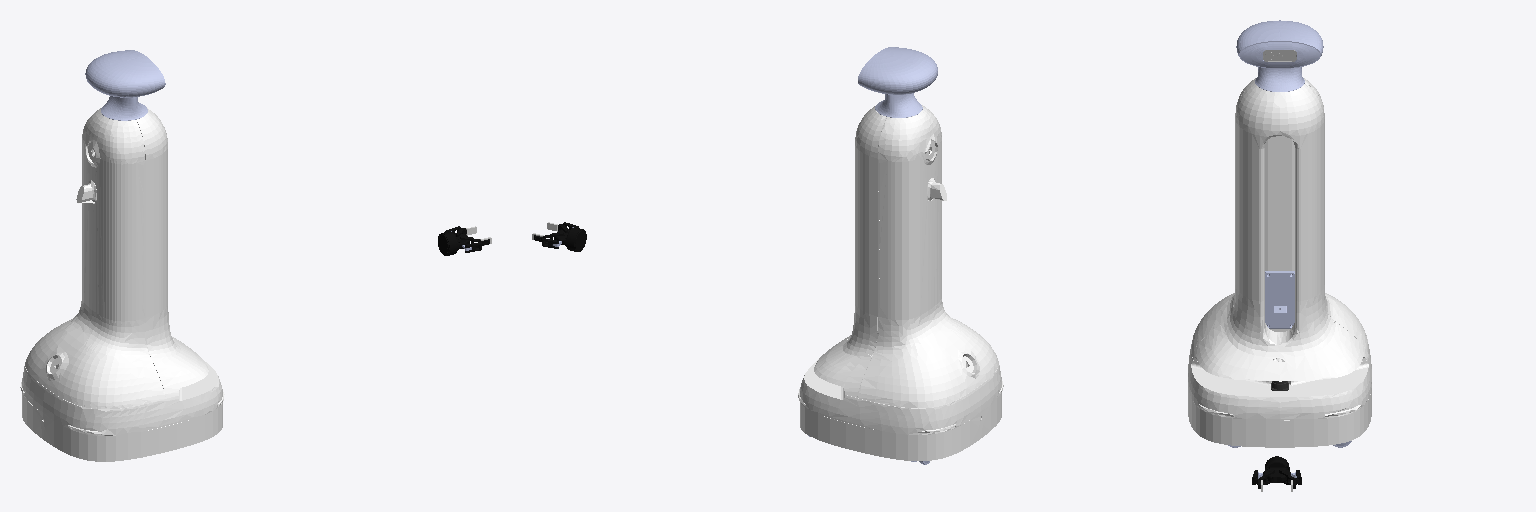
--- Render facts (derived) ---
3 views of the same robot in one strip: view 1: azimuth 30°, elevation 25°; view 2: azimuth 150°, elevation 25°; view 3: azimuth 270°, elevation 25° (orthographic).
Robot: mobile — 42 links, 41 joints (11 revolute, 15 continuous, 1 prismatic, 14 fixed); root link BaseLink; default pose: joints at zero except 3 at the middle of their limits (j2s7s300_joint_2 = 3.14, j2s7s300_joint_4 = 3.14, j2s7s300_joint_6 = 3.14).
Links seen in each view (by area): view 1: BodyShell, HeadShell, NeckShell; view 2: BodyShell, HeadShell, NeckShell; view 3: BodyShell, BaseLink, HeadShell, ArmBase, NeckShell.
Boxes of the visible links, x1,y1,x2,y2 form: BodyShell: [20, 108, 224, 461]; HeadShell: [85, 50, 165, 97]; NeckShell: [101, 96, 147, 120]; BodyShell: [798, 105, 1003, 460]; HeadShell: [858, 47, 937, 94]; NeckShell: [875, 93, 922, 117]; BodyShell: [1188, 78, 1371, 447]; BaseLink: [1265, 136, 1294, 331]; HeadShell: [1236, 20, 1323, 68]; ArmBase: [1265, 271, 1294, 328]; NeckShell: [1255, 67, 1304, 91].
Size in the robot's own frame: 1.61 by 0.5562 by 1.29 metres.
Meshes: 33 distinct files referenced, 25 mesh visuals loaded (21 binary STL); not drawn: 16 (reference not matched to a file when rendering).

robot.urdf — mobile:
<?xml version="1.0" encoding="utf-8"?>
<robot name="mobile">
  <!-- http://wiki.ros.org/simulator_gazebo/Tutorials/ListOfMaterials -->
  <!-- Bigger kp make it more stable -->
  <gazebo reference="BaseLink">
    <kp value="10000000000.0"/>
    <kd value="1.0"/>
    <mu1>0.1</mu1>
    <mu2>0.1</mu2>
    <self_collide>0</self_collide>
  </gazebo>
  <gazebo reference="ArmBase">
    <kp value="10000000000.0"/>
    <kd value="1.0"/>
    <mu1>0.1</mu1>
    <mu2>0.1</mu2>
    <self_collide>0</self_collide>
    <material>Gazebo/Yellow</material>
  </gazebo>
  <gazebo reference="DriWheel_R">
    <kp value="1000000000000.0"/>
    <kd value="1.0"/>
    <mu1>0.8</mu1>
    <mu2>0.8</mu2>
    <material>Gazebo/Blue</material>
  </gazebo>
  <gazebo reference="DriWheel_L">
    <kp value="1000000000000.0"/>
    <kd value="1.0"/>
    <mu1>0.8</mu1>
    <mu2>0.8</mu2>
    <material>Gazebo/Blue</material>
  </gazebo>
  <gazebo reference="UniWheel_LF">
    <mu1>0.8</mu1>
    <mu2>0.8</mu2>
    <material>Gazebo/BlueTransparent</material>
  </gazebo>
  <gazebo reference="UniWheel_RF">
    <mu1>0.8</mu1>
    <mu2>0.8</mu2>
    <material>Gazebo/BlueTransparent</material>
  </gazebo>
  <gazebo reference="UniWheel_LB">
    <mu1>0.8</mu1>
    <mu2>0.8</mu2>
    <material>Gazebo/BlueTransparent</material>
  </gazebo>
  <gazebo reference="UniWheel_RB">
    <mu1>0.8</mu1>
    <mu2>0.8</mu2>
    <material>Gazebo/BlueTransparent</material>
  </gazebo>
  <gazebo reference="HeadShell">
    <kp value="10000000000.0"/>
    <kd value="1.0"/>
    <material>Gazebo/RedBright</material>
  </gazebo>
  <gazebo reference="Radar_2D">
    <kp value="10000000000.0"/>
    <kd value="1.0"/>
    <material>Gazebo/DarkGrey</material>
  </gazebo>
  <gazebo reference="VisualPoint1">
    <material>Gazebo/Red</material>
  </gazebo>
  <gazebo reference="VisualPoint2">
    <material>Gazebo/Red</material>
  </gazebo>
  <gazebo reference="VisualPoint3">
    <material>Gazebo/Red</material>
  </gazebo>
  <gazebo reference="VisualWheel_L">
    <material>Gazebo/Red</material>
  </gazebo>
  <gazebo reference="VisualWheel_R">
    <material>Gazebo/Yellow</material>
  </gazebo>
  <gazebo reference="j2s7s300_link_base">
    <material>Gazebo/Grey</material>
  </gazebo>
  <gazebo reference="j2s7s300_link_1">
    <material>Gazebo/Grey</material>
  </gazebo>
  <gazebo reference="j2s7s300_link_2">
    <material>Gazebo/Grey</material>
  </gazebo>
  <gazebo reference="j2s7s300_link_3">
    <material>Gazebo/Grey</material>
  </gazebo>
  <gazebo reference="j2s7s300_link_4">
    <material>Gazebo/Grey</material>
  </gazebo>
  <gazebo reference="j2s7s300_link_5">
    <material>Gazebo/Grey</material>
  </gazebo>
  <gazebo reference="j2s7s300_link_6">
    <material>Gazebo/Grey</material>
  </gazebo>
  <gazebo reference="robotiq_base_link">
    <material>Gazebo/Grey</material>
    <self_collide>0</self_collide>
  </gazebo>
  <gazebo reference="right_inner_knuckle">
    <self_collide>0</self_collide>
  </gazebo>
  <gazebo reference="right_outer_knuckle">
    <self_collide>0</self_collide>
  </gazebo>
  <gazebo reference="right_outer_finger">
    <self_collide>0</self_collide>
  </gazebo>
  <gazebo reference="right_inner_finger">
  <material>Gazebo/Red</material>
    <self_collide>0</self_collide>
  </gazebo>
  <gazebo reference="left_inner_knuckle">
    <self_collide>0</self_collide>
  </gazebo>
  <gazebo reference="left_outer_knuckle">
    <self_collide>0</self_collide>
  </gazebo>
  <gazebo reference="left_outer_finger">
    <self_collide>0</self_collide>
  </gazebo>
  <gazebo reference="left_inner_finger">
    <self_collide>0</self_collide>
  </gazebo>
  <gazebo reference="right_inner_finger_pad">
    <self_collide>1</self_collide>
  </gazebo>
  <gazebo reference="left_inner_finger_pad">
    <self_collide>1</self_collide>
  </gazebo>
  <gazebo reference="mobile_end_effector">
    <material>Gazebo/GreenTransparent</material>
    <self_collide>0</self_collide>
  </gazebo>
  <!-- Mobile base -->
  <link
    name="BaseLink">
    <inertial>
      <origin
        xyz="-0.0311802154982621 1.17504338130459E-05 0.315211906825966"
        rpy="0 0 0" />
      <mass
        value="8.7968329124645" />
      <inertia
        ixx="0.186258716514256"
        ixy="-1.48518742834124E-05"
        ixz="-0.00154696059136798"
        iyy="0.203780508528874"
        iyz="1.05129920553985E-05"
        izz="0.079091000039605" />
    </inertial>
    <visual>
      <origin
        xyz="0 0 0"
        rpy="0 0 0" />
      <geometry>
        <mesh
          filename="package://mobile_base_urdf/model/base/v4/meshes/BaseLink.STL" />
      </geometry>
      <material
        name="">
        <color
          rgba="1 1 1 1" />
      </material>
    </visual>
    <collision>
      <origin rpy="0 0 0" xyz="0 0 0.025"/>
      <geometry>
        <box size="0.5 0.14 0.15"/>
      </geometry>
    </collision>
  </link>
  <link
    name="Radar_2D">
    <inertial>
      <origin
        xyz="6.20383105998101E-10 0.0216642806157543 -9.5633137657869E-05"
        rpy="0 0 0" />
      <mass
        value="0.111414847916921" />
      <inertia
        ixx="4.42568757050089E-05"
        ixy="5.54707912683361E-13"
        ixz="-1.43915040446869E-12"
        iyy="4.24275016408878E-05"
        iyz="-1.99911186975257E-07"
        izz="4.38954994136943E-05" />
    </inertial>
    <visual>
      <origin
        xyz="0 0 0"
        rpy="0 0 0" />
      <geometry>
        <mesh
          filename="package://mobile_base_urdf/model/base/v4/meshes/Lidar.STL" />
      </geometry>
      <material
        name="">
        <color
          rgba="0.258823529411765 0.258823529411765 0.258823529411765 1" />
      </material>
    </visual>
    <collision>
      <origin
        xyz="0 0 0"
        rpy="0 0 0" />
      <geometry>
        <mesh
          filename="package://mobile_base_urdf/model/base/v4/meshes/Lidar.STL" />
      </geometry>
    </collision>
  </link>
  <joint
    name="JT_Radar_2D"
    type="fixed">
    <origin
      xyz="0.1985 0 0.095"
      rpy="1.5708 0 1.5708" />
    <parent
      link="BaseLink" />
    <child
      link="Radar_2D" />
    <axis
      xyz="0 0 0" />
  </joint>
  <link
    name="UniWheelBase_RF">
    <inertial>
      <origin
        xyz="-0.0289122121608881 7.96029908656237E-14 -0.0182260960322876"
        rpy="0 0 0" />
      <mass
        value="0.0847351495375796" />
      <inertia
        ixx="3.34756139191196E-05"
        ixy="7.50114488966578E-17"
        ixz="-1.16340041790674E-05"
        iyy="6.07135705376021E-05"
        iyz="3.20838303655994E-17"
        izz="3.49474283390519E-05" />
    </inertial>
    <visual>
      <origin
        xyz="0 0 0"
        rpy="0 0 0" />
      <geometry>
        <mesh
          filename="package://mobile_base_urdf/model/base/v4/meshes/UniWheelPivot_RF.STL" />
      </geometry>
      <material
        name="">
        <color
          rgba="1 1 1 1" />
      </material>
    </visual>
  </link>
  <joint
    name="JT_UniWheelBase_RF"
    type="continuous">
    <origin
      xyz="0.185 -0.1585 -0.0043169"
      rpy="1.5708 -1.5708 0" />
    <parent
      link="BaseLink" />
    <child
      link="UniWheelBase_RF" />
    <axis
      xyz="1 0 0" />
    <limit
      lower="-1000000000000"
      upper="1000000000000"
      effort="100"
      velocity="30" />
    <dynamics
      damping="0.01"
      friction="0.001"/>
  </joint>
  <link
    name="UniWheel_RF">
    <inertial>
      <origin
        xyz="2.82717186675385E-08 2.14311952628776E-08 3.03619636168873E-08"
        rpy="0 0 0" />
      <mass
        value="0.131455385692783" />
      <inertia
        ixx="4.67616618745289E-05"
        ixy="-2.20955469793984E-11"
        ixz="-5.77989335033432E-10"
        iyy="8.85134138944847E-05"
        iyz="-2.24056751711574E-11"
        izz="4.67628266240816E-05" />
    </inertial>
    <visual>
      <origin
        xyz="0 0 0"
        rpy="0 0 0" />
      <geometry>
        <mesh
          filename="package://mobile_base_urdf/model/base/v4/meshes/UniWheel_RF.STL" />
      </geometry>
      <material
        name="">
        <color
          rgba="0.792156862745098 0.819607843137255 0.933333333333333 1" />
      </material>
    </visual>
    <collision>
      <origin
        xyz="0 0 0"
        rpy="1.57079632679489661923 0 0" />
      <geometry>
        <cylinder length="0.001" radius="0.0375" />
      </geometry>
    </collision>
  </link>
  <joint
    name="JT_UniWheel_RF"
    type="continuous">
    <origin
      xyz="-0.042183 0 -0.024"
      rpy="0 -1.5708 0" />
    <parent
      link="UniWheelBase_RF" />
    <child
      link="UniWheel_RF" />
    <axis
      xyz="0 1 0" />
    <limit
      lower="-1000000000000"
      upper="1000000000000"
      effort="100"
      velocity="30" />
    <dynamics
      damping="0.01"
      friction="0.001"/>
  </joint>
  <link
    name="UniWheelBase_LF">
    <inertial>
      <origin
        xyz="-0.028912212160888 7.96029908656237E-14 -0.0182260960322876"
        rpy="0 0 0" />
      <mass
        value="0.0847351495375796" />
      <inertia
        ixx="3.34756139191196E-05"
        ixy="7.50107342044398E-17"
        ixz="-1.16340041790674E-05"
        iyy="6.07135705376022E-05"
        iyz="3.20810669265241E-17"
        izz="3.49474283390519E-05" />
    </inertial>
    <visual>
      <origin
        xyz="0 0 0"
        rpy="0 0 0" />
      <geometry>
        <mesh
          filename="package://mobile_base_urdf/model/base/v4/meshes/UniWheelPivot_LF.STL" />
      </geometry>
      <material
        name="">
        <color
          rgba="1 1 1 1" />
      </material>
    </visual>
  </link>
  <joint
    name="JT_UniWheelBase_LF"
    type="continuous">
    <origin
      xyz="0.185 0.1585 -0.00431688785512865"
      rpy="1.5707963267949 -1.5707963267949 0" />
    <parent
      link="BaseLink" />
    <child
      link="UniWheelBase_LF" />
    <axis
      xyz="1 0 0" />
    <limit
      lower="-1000000000000"
      upper="1000000000000"
      effort="100"
      velocity="30" />
    <dynamics
      damping="0.01"
      friction="0.001"/>
  </joint>
  <link
    name="UniWheel_LF">
    <inertial>
      <origin
        xyz="-1.63190614910214E-08 2.14311952073665E-08 3.81421963735473E-08"
        rpy="0 0 0" />
      <mass
        value="0.131455385692783" />
      <inertia
        ixx="4.67630636523249E-05"
        ixy="1.15437256666207E-11"
        ixz="-4.25528389794276E-11"
        iyy="8.85134138944848E-05"
        iyz="-2.92740747055511E-11"
        izz="4.67614248462869E-05" />
    </inertial>
    <visual>
      <origin
        xyz="0 0 0"
        rpy="0 0 0" />
      <geometry>
        <mesh
          filename="package://mobile_base_urdf/model/base/v4/meshes/UniWheel_LF.STL" />
      </geometry>
      <material
        name="">
        <color
          rgba="0.792156862745098 0.819607843137255 0.933333333333333 1" />
      </material>
    </visual>
    <collision>
      <origin
        xyz="0 0 0"
        rpy="1.57079632679489661923 0 0" />
      <geometry>
        <cylinder length="0.001" radius="0.0375" />
      </geometry>
    </collision>
  </link>
  <joint
    name="JT_UniWheel_LF"
    type="continuous">
    <origin
      xyz="-0.042183 0 -0.024"
      rpy="0 -1.5708 0" />
    <parent
      link="UniWheelBase_LF" />
    <child
      link="UniWheel_LF" />
    <axis
      xyz="0 1 0" />
    <limit
      lower="-1000000000000"
      upper="1000000000000"
      effort="100"
      velocity="30" />
    <dynamics
      damping="0.01"
      friction="0.001"/>
  </joint>
  <link
    name="UniWheelBase_RB">
    <inertial>
      <origin
        xyz="-0.0289122121598695 7.96029908656237E-14 -0.0182260960322876"
        rpy="0 0 0" />
      <mass
        value="0.0847351495375796" />
      <inertia
        ixx="3.34756139191196E-05"
        ixy="7.50002400117997E-17"
        ixz="-1.16340041790674E-05"
        iyy="6.07135705376021E-05"
        iyz="3.2068961265564E-17"
        izz="3.49474283390519E-05" />
    </inertial>
    <visual>
      <origin
        xyz="0 0 0"
        rpy="0 0 0" />
      <geometry>
        <mesh
          filename="package://mobile_base_urdf/model/base/v4/meshes/UniWheelPivot_RB.STL" />
      </geometry>
      <material
        name="">
        <color
          rgba="1 1 1 1" />
      </material>
    </visual>
  </link>
  <joint
    name="JT_UniWheelBase_RB"
    type="continuous">
    <origin
      xyz="-0.185 -0.1585 -0.00431688785512863"
      rpy="1.5707963267949 -1.5707963267949 0" />
    <parent
      link="BaseLink" />
    <child
      link="UniWheelBase_RB" />
    <axis
      xyz="1 0 0" />
    <limit
      lower="-1000000000000"
      upper="1000000000000"
      effort="100"
      velocity="30" />
    <dynamics
      damping="0.01"
      friction="0.001"/>
  </joint>
  <link
    name="UniWheel_RB">
    <inertial>
      <origin
        xyz="-1.63190614563269E-08 2.14311951796109E-08 3.81421963388529E-08"
        rpy="0 0 0" />
      <mass
        value="0.131455385692783" />
      <inertia
        ixx="4.67630636523245E-05"
        ixy="1.15437256434612E-11"
        ixz="-4.25528389606465E-11"
        iyy="8.85134138944848E-05"
        iyz="-2.92740747818311E-11"
        izz="4.67614248462865E-05" />
    </inertial>
    <visual>
      <origin
        xyz="0 0 0"
        rpy="0 0 0" />
      <geometry>
        <mesh
          filename="package://mobile_base_urdf/model/base/v4/meshes/UniWheel_RB.STL" />
      </geometry>
      <material
        name="">
        <color
          rgba="0.792156862745098 0.819607843137255 0.933333333333333 1" />
      </material>
    </visual>
    <collision>
      <origin
        xyz="0 0 0"
        rpy="1.57079632679489661923 0 0" />
      <geometry>
        <cylinder length="0.001" radius="0.0375" />
      </geometry>
    </collision>
  </link>
  <joint
    name="JT_UniWheel_RB"
    type="continuous">
    <origin
      xyz="-0.042183 0 -0.024"
      rpy="0 -1.5708 0" />
    <parent
      link="UniWheelBase_RB" />
    <child
      link="UniWheel_RB" />
    <axis
      xyz="0 1 0" />
    <limit
      lower="-1000000000000"
      upper="1000000000000"
      effort="100"
      velocity="30" />
    <dynamics
      damping="0.01"
      friction="0.001"/>
  </joint>
  <link
    name="UniWheelBase_LB">
    <inertial>
      <origin
        xyz="-0.0289122121598694 7.95752352900081E-14 -0.0182260960322876"
        rpy="0 0 0" />
      <mass
        value="0.0847351495375797" />
      <inertia
        ixx="3.34756139191196E-05"
        ixy="7.50052988252789E-17"
        ixz="-1.16340041790674E-05"
        iyy="6.07135705376022E-05"
        iyz="3.20738964835275E-17"
        izz="3.49474283390519E-05" />
    </inertial>
    <visual>
      <origin
        xyz="0 0 0"
        rpy="0 0 0" />
      <geometry>
        <mesh
          filename="package://mobile_base_urdf/model/base/v4/meshes/UniWheelPivot_LB.STL" />
      </geometry>
      <material
        name="">
        <color
          rgba="1 1 1 1" />
      </material>
    </visual>
  </link>
  <joint
    name="JT_UniWheelBase_LB"
    type="continuous">
    <origin
      xyz="-0.185 0.1585 -0.0043169"
      rpy="1.5708 -1.5708 0" />
    <parent
      link="BaseLink" />
    <child
      link="UniWheelBase_LB" />
    <axis
      xyz="1 0 0" />
    <limit
      lower="-1000000000000"
      upper="1000000000000"
      effort="100"
      velocity="30" />
    <dynamics
      damping="0.01"
      friction="0.001"/>
  </joint>
  <link
    name="UniWheel_LB">
    <inertial>
      <origin
        xyz="-1.63190614910214E-08 2.14311952073665E-08 3.81421963596695E-08"
        rpy="0 0 0" />
      <mass
        value="0.131455385692783" />
      <inertia
        ixx="4.67630636523245E-05"
        ixy="1.15437256326157E-11"
        ixz="-4.25528389682312E-11"
        iyy="8.85134138944848E-05"
        iyz="-2.92740746535266E-11"
        izz="4.67614248462866E-05" />
    </inertial>
    <visual>
      <origin
        xyz="0 0 0"
        rpy="0 0 0" />
      <geometry>
        <mesh
          filename="package://mobile_base_urdf/model/base/v4/meshes/UniWheel_LB.STL" />
      </geometry>
      <material
        name="">
        <color
          rgba="0.792156862745098 0.819607843137255 0.933333333333333 1" />
      </material>
    </visual>
    <collision>
      <origin
        xyz="0 0 0"
        rpy="1.57079632679489661923 0 0" />
      <geometry>
        <cylinder length="0.001" radius="0.0375" />
      </geometry>
    </collision>
  </link>
  <joint
    name="JT_UniWheel_LB"
    type="continuous">
    <origin
      xyz="-0.0421831121443616 0 -0.024"
      rpy="0 -1.5707963267949 0" />
    <parent
      link="UniWheelBase_LB" />
    <child
      link="UniWheel_LB" />
    <axis
      xyz="0 1 0" />
    <limit
      lower="-1000000000000"
      upper="1000000000000"
      effort="100"
      velocity="30" />
    <dynamics
      damping="0.01"
      friction="0.001"/>
  </joint>
  <link
    name="DriWheel_L">
    <inertial>
      <origin
        xyz="7.00910488723022E-19 2.29657315570231E-06 8.67361737988404E-19"
        rpy="0 0 0" />
      <mass
        value="0.991630823915776" />
      <inertia
        ixx="0.00184507083744811"
        ixy="-3.379158989595E-21"
        ixz="3.3889717648391E-36"
        iyy="0.00334198159600445"
        iyz="5.46421202140047E-36"
        izz="0.00184507083744811" />
    </inertial>
    <visual>
      <origin
        xyz="0 0 0"
        rpy="0 0 0" />
      <geometry>
        <mesh
          filename="package://mobile_base_urdf/model/base/v4/meshes/DriWheel_L.STL" />
      </geometry>
      <material
        name="">
        <color
          rgba="1 1 1 1" />
      </material>
    </visual>
    <collision>
      <origin rpy="1.57079632679489661923 0 0" xyz="0 0 0"/>
      <geometry>
        <cylinder length="0.001" radius="0.0843"/>
      </geometry>
    </collision>
  </link>
  <joint
    name="JT_DriWheel_L"
    type="continuous">
    <origin
      xyz="0 0.19697 0"
      rpy="0 0 0" />
    <parent
      link="BaseLink" />
    <child
      link="DriWheel_L" />
    <axis
      xyz="0 1 0" />
    <limit
      lower="-1000000000000"
      upper="1000000000000"
      effort="1000"
      velocity="30" />
    <dynamics
      damping="0.01"
      friction="0.001"/>
  </joint>
  <link
    name="DriWheel_R">
    <inertial>
      <origin
        xyz="3.80487199906632E-18 -2.29657315570231E-06 0"
        rpy="0 0 0" />
      <mass
        value="0.991630823915776" />
      <inertia
        ixx="0.00184507083744811"
        ixy="4.54703773356873E-19"
        ixz="1.69406589450849E-21"
        iyy="0.00334198159600445"
        iyz="-8.74951063712164E-22"
        izz="0.00184507083744811" />
    </inertial>
    <visual>
      <origin
        xyz="0 0 0"
        rpy="0 0 0" />
      <geometry>
        <mesh
          filename="package://mobile_base_urdf/model/base/v4/meshes/DriWheel_R.STL" />
      </geometry>
      <material
        name="">
        <color
          rgba="1 1 1 1" />
      </material>
    </visual>
    <collision>
      <origin rpy="1.57079632679489661923 0 0" xyz="0 0 0"/>
      <geometry>
        <cylinder length="0.001" radius="0.0843"/>
      </geometry>
    </collision>
  </link>
  <joint
    name="JT_DriWheel_R"
    type="continuous">
    <origin
      xyz="0 -0.19697 0"
      rpy="0 0.004633 0" />
    <parent
      link="BaseLink" />
    <child
      link="DriWheel_R" />
    <axis
      xyz="0 1 0" />
    <limit
      lower="-1000000000000"
      upper="1000000000000"
      effort="1000"
      velocity="30" />
    <dynamics
      damping="0.01"
      friction="0.001"/>
  </joint>
  <link
    name="ArmBase">
    <inertial>
      <origin
        xyz="-0.0306974842711243 -0.000955398394232504 0.0354516942274083"
        rpy="0 0 0" />
      <mass
        value="0.833236204792763" />
      <inertia
        ixx="0.00262276376774655"
        ixy="-6.9599475549375E-07"
        ixz="5.15168201230645E-05"
        iyy="0.00186363387009509"
        iyz="8.78496595339785E-07"
        izz="0.00105932573712803" />
    </inertial>
    <visual>
      <origin
        xyz="0 0 0"
        rpy="0 0 0" />
      <geometry>
        <mesh
          filename="package://mobile_base_urdf/model/base/v4/meshes/ArmBase.STL" />
      </geometry>
      <material
        name="">
        <color
          rgba="0.796078431372549 0.823529411764706 0.937254901960784 1" />
      </material>
    </visual>
    <collision>
      <origin
        xyz="0 0 0"
        rpy="0 0 0" />
      <geometry>
        <mesh
          filename="package://mobile_base_urdf/model/base/v4/meshes/ArmBase.STL" />
      </geometry>
    </collision>
  </link>
  <joint
    name="JT_ArmBase"
    type="prismatic">
    <origin
      xyz="0.063 0.001 0.2955"
      rpy="0 0 0" />
    <parent
      link="BaseLink" />
    <child
      link="ArmBase" />
    <axis
      xyz="0 0 1" />
    <limit
      lower="0"
      upper="0.585"
      effort="1000"
      velocity="0.06" />
  </joint>
  <link
    name="Pantilt_PanLink">
    <inertial>
      <origin
        xyz="0.000554299127061951 -3.49485223612167E-06 0.0547778067465923"
        rpy="0 0 0" />
      <mass
        value="0.226677336025464" />
      <inertia
        ixx="0.000142637008072705"
        ixy="2.77462848098286E-10"
        ixz="4.76129503110727E-17"
        iyy="7.22794203939845E-05"
        iyz="-2.37581213250001E-16"
        izz="0.000154987832286111" />
    </inertial>
    <visual>
      <origin
        xyz="0 0 0"
        rpy="0 0 0" />
      <geometry>
        <mesh
          filename="package://mobile_base_urdf/model/base/v4/meshes/PanSet.STL" />
      </geometry>
      <material
        name="">
        <color
          rgba="0.752941176470588 0.752941176470588 0.752941176470588 1" />
      </material>
    </visual>
    <collision>
      <origin
        xyz="0 0 0"
        rpy="0 0 0" />
      <geometry>
        <mesh
          filename="package://mobile_base_urdf/model/base/v4/meshes/PanSet.STL" />
      </geometry>
    </collision>
  </link>
  <joint
    name="JT_Pantilt_PanLink"
    type="continuous">
    <origin
      xyz="0 0 1.0091"
      rpy="0 0 0" />
    <parent
      link="BaseLink" />
    <child
      link="Pantilt_PanLink" />
    <axis
      xyz="0 0 1" />
    <limit
      effort="20"
      lower="-100000"
      upper="100000"
      velocity="30"/>
    <dynamics
      damping="0.2"
      friction="0.0"/>
  </joint>
  <link
    name="Pantilt_TiltLink">
    <inertial>
      <origin
        xyz="0.00627852264147075 -1.3351967463604E-05 0.0451641775455638"
        rpy="0 0 0" />
      <mass
        value="0.337334688556195" />
      <inertia
        ixx="0.00094709872727437"
        ixy="2.97365722461131E-07"
        ixz="-4.12017268066108E-06"
        iyy="0.000509489116148601"
        iyz="-2.57100827181398E-08"
        izz="0.00142454025924575" />
    </inertial>
    <visual>
      <origin
        xyz="0 0 0"
        rpy="0 0 0" />
      <geometry>
        <mesh
          filename="package://mobile_base_urdf/model/base/v4/meshes/TiltSet.STL" />
      </geometry>
      <material
        name="">
        <color
          rgba="0.752941176470588 0.752941176470588 0.752941176470588 1" />
      </material>
    </visual>
    <collision>
      <origin
        xyz="0 0 0"
        rpy="0 0 0" />
      <geometry>
        <mesh
          filename="package://mobile_base_urdf/model/base/v4/meshes/TiltSet.STL" />
      </geometry>
    </collision>
  </link>
  <joint
    name="JT_Pantilt_TiltLink"
    type="continuous">
    <origin
      xyz="0 0 0.10056"
      rpy="0 0.019568 0" />
    <parent
      link="Pantilt_PanLink" />
    <child
      link="Pantilt_TiltLink" />
    <axis
      xyz="0 1 0" />
    <limit
      effort="20"
      lower="-100000"
      upper="100000"
      velocity="30"/>
    <dynamics
      damping="0.2"
      friction="0.0"/>
  </joint>
  <!-- Shell -->
  <link
    name="BodyShell">
    <inertial>
      <origin
        xyz="-0.00438421880768753 8.31574203594421E-05 0.375180994226469"
        rpy="0 0 0" />
      <mass
        value="6.96027412074526" />
      <inertia
        ixx="0.54240738104732"
        ixy="-3.13858711109322E-05"
        ixz="-0.0126584262855019"
        iyy="0.492210055619746"
        iyz="4.12720577585476E-05"
        izz="0.251787815510178" />
    </inertial>
    <visual>
      <origin
        xyz="0 0 0"
        rpy="0 0 0" />
      <geometry>
        <mesh
          filename="package://mobile_base_urdf/model/base/v4/meshes/BodyShell.STL" />
      </geometry>
      <material
        name="">
        <color
          rgba="1 1 1 1" />
      </material>
    </visual>
    <collision>
      <origin
        xyz="0 0 0"
        rpy="0 0 0" />
      <geometry>
        <mesh
          filename="package://mobile_base_urdf/model/base/v4/meshes/BodyShell.STL" />
      </geometry>
    </collision>
  </link>
  <joint
    name="JT_BodyShell"
    type="fixed">
    <origin
      xyz="0 0 0"
      rpy="0 0 0" />
    <parent
      link="BaseLink" />
    <child
      link="BodyShell" />
    <axis
      xyz="0 0 0" />
  </joint>
  <link
    name="HeadShell">
    <inertial>
      <origin
        xyz="-0.00389933532083145 0.0427764441730733 0.87165278052167"
        rpy="0 0 0" />
      <mass
        value="0.354445891112852" />
      <inertia
        ixx="0.00118414996131452"
        ixy="-0.000144474967856168"
        ixz="-1.2439502307308E-06"
        iyy="0.00211641739988207"
        iyz="8.93972375142148E-06"
        izz="0.00314939565459275" />
    </inertial>
    <visual>
      <origin
        xyz="0 0 0"
        rpy="0 0 0" />
      <geometry>
        <mesh
          filename="package://mobile_base_urdf/model/base/v4/meshes/HeadShell.STL" />
      </geometry>
      <material
        name="">
        <color
          rgba="0.792156862745098 0.819607843137255 0.933333333333333 1" />
      </material>
    </visual>
    <collision>
      <origin
        xyz="0 0 0"
        rpy="0 0 0" />
      <geometry>
        <mesh
          filename="package://mobile_base_urdf/model/base/v4/meshes/HeadShell.STL" />
      </geometry>
    </collision>
  </link>
  <joint
    name="JT_HeadShell"
    type="fixed">
    <origin
      xyz="0.049958 -0.0025918 -0.81864"
      rpy="-0.019346 -0.0029375 1.4201" />
    <parent
      link="Pantilt_TiltLink" />
    <child
      link="HeadShell" />
    <axis
      xyz="0 0 0" />
  </joint>
  <link
    name="NeckShell">
    <inertial>
      <origin
        xyz="-0.00241306537212758 0.033137204350725 0.788402712710511"
        rpy="0 0 0" />
      <mass
        value="0.137012264555895" />
      <inertia
        ixx="0.000183280169998726"
        ixy="-2.80282933564336E-05"
        ixz="-3.68462241307317E-07"
        iyy="0.000363621283724574"
        iyz="2.46058968589238E-06"
        izz="0.000261586764660329" />
    </inertial>
    <visual>
      <origin
        xyz="0 0 0"
        rpy="0 0 0" />
      <geometry>
        <mesh
          filename="package://mobile_base_urdf/model/base/v4/meshes/NeckShell.STL" />
      </geometry>
      <material
        name="">
        <color
          rgba="0.792156862745098 0.819607843137255 0.933333333333333 1" />
      </material>
    </visual>
    <collision>
      <origin
        xyz="0 0 0"
        rpy="0 0 0" />
      <geometry>
        <mesh
          filename="package://mobile_base_urdf/model/base/v4/meshes/NeckShell.STL" />
      </geometry>
    </collision>
  </link>
  <joint
    name="JT_NeckShell"
    type="fixed">
    <origin
      xyz="-0.033931 0.0025889 -0.72354"
      rpy="0 0 -1.7215" />
    <parent
      link="Pantilt_PanLink" />
    <child
      link="NeckShell" />
    <axis
      xyz="0 0 0" />
  </joint>
  <!-- Base visualization -->
  <link name="VisualWheel_L">
    <visual>
      <origin xyz="0 0.024 0" rpy="0 0 0" />
      <geometry>
        <box size="0.01 0.001 0.15"/>
      </geometry>
    </visual>
  </link>
  <joint name="JT_VisualWheel_L"
    type="fixed">
    <origin
      xyz="0 0 0"
      rpy="0 0 0" />
    <parent
      link="DriWheel_L" />
    <child
      link="VisualWheel_L" />
  </joint>
  <link name="VisualWheel_R">
    <visual>
      <origin xyz="0 -0.024 0" rpy="0 0 0" />
      <geometry>
        <box size="0.01 0.001 0.15"/>
      </geometry>
    </visual>
  </link>
  <joint name="JT_VisualWheel_R"
    type="fixed">
    <origin
      xyz="0 0 0"
      rpy="0 0 0" />
    <parent
      link="DriWheel_R" />
    <child
      link="VisualWheel_R" />
  </joint>
  <link name="VisualPoint1">
    <visual>
      <origin xyz="0 0 0" rpy="0 0 0" />
      <geometry>
        <sphere radius="0.01"/>
      </geometry>
    </visual>
  </link>
  <joint name="JT_VisualPoint1"
    type="fixed">
    <origin
      xyz="0.02 0 0.55"
      rpy="0 0 0" />
    <parent
      link="BaseLink" />
    <child
      link="VisualPoint1" />
  </joint>
  <link name="VisualPoint2">
    <visual>
      <origin xyz="0 0 0" rpy="0 0 0" />
      <geometry>
        <sphere radius="0.01"/>
      </geometry>
    </visual>
  </link>
  <joint name="JT_VisualPoint2"
    type="fixed">
    <origin
      xyz="0.02 0 0.7"
      rpy="0 0 0" />
    <parent
      link="BaseLink" />
    <child
      link="VisualPoint2" />
  </joint>
  <link name="VisualPoint3">
    <visual>
      <origin xyz="0 0 0" rpy="0 0 0" />
      <geometry>
        <sphere radius="0.01"/>
      </geometry>
    </visual>
  </link>
  <joint name="JT_VisualPoint3"
    type="fixed">
    <origin
      xyz="0.02 0 0.85"
      rpy="0 0 0" />
    <parent
      link="BaseLink" />
    <child
      link="VisualPoint3" />
  </joint>
  <!-- Kinova arm -->
  <link name="j2s7s300_link_base">
    <visual>
      <geometry>
        <mesh filename="package://mobile_base_urdf/model/arm/kinova/meshes/base.dae"/>
      </geometry>
      <material name="carbon_fiber">
        <color rgba="0.792156862745098 0.819607843137255 0.933333333333333 1"/>
      </material>
    </visual>
    <inertial>
      <mass value="0.46784"/>
      <origin rpy="0 0 0" xyz="0 0 0.1255"/>
      <inertia ixx="0.000951270861568" ixy="0" ixz="0" iyy="0.000951270861568" iyz="0" izz="0.000374272"/>
    </inertial>
  </link>
  <joint name="j2s7s300_joint_base" type="fixed">
    <parent link="ArmBase"/>
    <child link="j2s7s300_link_base"/>
    <axis xyz="0 0 0"/>
    <limit effort="50" lower="0" upper="0" velocity="30"/>
    <origin rpy="0 1.57079632679489661923 0" xyz="0 0 0"/>
    <dynamics damping=".2" friction=".0"/>
  </joint>
  <link name="j2s7s300_link_1">
    <visual>
      <geometry>
        <mesh filename="package://mobile_base_urdf/model/arm/kinova/meshes/shoulder.dae"/>
      </geometry>
      <material name="carbon_fiber">
        <color rgba="0.792156862745098 0.819607843137255 0.933333333333333 1"/>
      </material>
    </visual>
    <visual>
      <geometry>
        <mesh filename="package://mobile_base_urdf/model/arm/kinova/meshes/ring_big.STL"/>
      </geometry>
    </visual>
    <inertial>
      <mass value="0.7477"/>
      <origin xyz="0 -0.002 -0.0605"/>
      <inertia ixx="0.00152031725204" ixy="0" ixz="0" iyy="0.00152031725204" iyz="0" izz="0.00059816"/>
    </inertial>
  </link>
  <joint name="j2s7s300_joint_1" type="continuous">
    <parent link="j2s7s300_link_base"/>
    <child link="j2s7s300_link_1"/>
    <axis xyz="0 0 1"/>
    <limit effort="50" lower="-6.28318530718" upper="6.28318530718" velocity="30"/>
    <origin rpy="0 3.14159265358979323846 0" xyz="0 0 0.15675"/>
    <dynamics damping=".2" friction=".0"/>
  </joint>
  <transmission name="j2s7s300_joint_1_trans">
    <type>transmission_interface/SimpleTransmission</type>
    <joint name="j2s7s300_joint_1">
      <hardwareInterface>hardware_interface/EffortJointInterface</hardwareInterface>
    </joint>
    <actuator name="j2s7s300_joint_1_actuator">
      <hardwareInterface>hardware_interface/EffortJointInterface</hardwareInterface>
      <mechanicalReduction>160</mechanicalReduction>
    </actuator>
  </transmission>
  <link name="j2s7s300_link_2">
    <visual>
      <geometry>
        <mesh filename="package://mobile_base_urdf/model/arm/kinova/meshes/arm_half_1.dae"/>
      </geometry>
      <material name="carbon_fiber">
        <color rgba="0.792156862745098 0.819607843137255 0.933333333333333 1"/>
      </material>
    </visual>
    <visual>
      <geometry>
        <mesh filename="package://mobile_base_urdf/model/arm/kinova/meshes/ring_big.STL"/>
      </geometry>
    </visual>
    <collision>
      <geometry>
        <mesh filename="package://mobile_base_urdf/model/arm/kinova/meshes/arm_half_1.dae"/>
      </geometry>
    </collision>
    <inertial>
      <mass value="0.8447"/>
      <origin xyz="0 -0.103563213 0"/>
      <inertia ixx="0.00247073761701" ixy="0" ixz="0" iyy="0.000380115" iyz="0" izz="0.00247073761701"/>
    </inertial>
  </link>
  <joint name="j2s7s300_joint_2" type="revolute">
    <parent link="j2s7s300_link_1"/>
    <child link="j2s7s300_link_2"/>
    <axis xyz="0 0 1"/>
    <limit effort="50" lower="0.820304748437" upper="5.46288055874" velocity="30"/>
    <origin rpy="-1.57079632679489661923 0 3.14159265358979323846" xyz="0 0.0016 -0.11875"/>
    <dynamics damping=".2" friction=".0"/>
  </joint>
  <transmission name="j2s7s300_joint_2_trans">
    <type>transmission_interface/SimpleTransmission</type>
    <joint name="j2s7s300_joint_2">
      <hardwareInterface>hardware_interface/EffortJointInterface</hardwareInterface>
    </joint>
    <actuator name="j2s7s300_joint_2_actuator">
      <hardwareInterface>hardware_interface/EffortJointInterface</hardwareInterface>
      <mechanicalReduction>160</mechanicalReduction>
    </actuator>
  </transmission>
  <link name="j2s7s300_link_3">
    <visual>
      <geometry>
        <mesh filename="package://mobile_base_urdf/model/arm/kinova/meshes/arm_half_2.dae"/>
      </geometry>
      <material name="carbon_fiber">
        <color rgba="0.792156862745098 0.819607843137255 0.933333333333333 1"/>
      </material>
    </visual>
    <visual>
      <geometry>
        <mesh filename="package://mobile_base_urdf/model/arm/kinova/meshes/ring_big.STL"/>
      </geometry>
    </visual>
    <collision>
      <geometry>
        <mesh filename="package://mobile_base_urdf/model/arm/kinova/meshes/arm_half_2.dae"/>
      </geometry>
    </collision>
    <inertial>
      <mass value="0.8447"/>
      <origin xyz="0 0 -0.1022447445"/>
      <inertia ixx="0.00247073761701" ixy="0" ixz="0" iyy="0.00247073761701" iyz="0" izz="0.000380115"/>
    </inertial>
  </link>
  <joint name="j2s7s300_joint_3" type="continuous">
    <parent link="j2s7s300_link_2"/>
    <child link="j2s7s300_link_3"/>
    <axis xyz="0 0 1"/>
    <limit effort="50" lower="-6.28318530718" upper="6.28318530718" velocity="30"/>
    <origin rpy="-1.57079632679489661923 0 0" xyz="0 -0.205 0"/>
    <dynamics damping=".2" friction=".0"/>
  </joint>
  <transmission name="j2s7s300_joint_3_trans">
    <type>transmission_interface/SimpleTransmission</type>
    <joint name="j2s7s300_joint_3">
      <hardwareInterface>hardware_interface/EffortJointInterface</hardwareInterface>
    </joint>
    <actuator name="j2s7s300_joint_3_actuator">
      <hardwareInterface>hardware_interface/EffortJointInterface</hardwareInterface>
      <mechanicalReduction>160</mechanicalReduction>
    </actuator>
  </transmission>
  <link name="j2s7s300_link_4">
    <visual>
      <geometry>
        <mesh filename="package://mobile_base_urdf/model/arm/kinova/meshes/forearm.dae"/>
      </geometry>
      <material name="carbon_fiber">
        <color rgba="0.792156862745098 0.819607843137255 0.933333333333333 1"/>
      </material>
    </visual>
    <visual>
      <geometry>
        <mesh filename="package://mobile_base_urdf/model/arm/kinova/meshes/ring_small.STL"/>
      </geometry>
    </visual>
    <collision>
      <geometry>
        <mesh filename="package://mobile_base_urdf/model/arm/kinova/meshes/forearm.dae"/>
      </geometry>
    </collision>
    <inertial>
      <mass value="0.6763"/>
      <origin xyz="0 0.081 -0.0086"/>
      <inertia ixx="0.00142022431908" ixy="0" ixz="0" iyy="0.000304335" iyz="0" izz="0.00142022431908"/>
    </inertial>
  </link>
  <joint name="j2s7s300_joint_4" type="revolute">
    <parent link="j2s7s300_link_3"/>
    <child link="j2s7s300_link_4"/>
    <axis xyz="0 0 1"/>
    <limit effort="40" lower="0.523598775598" upper="5.75958653158" velocity="30"/>
    <origin rpy="1.57079632679489661923 0 3.14159265358979323846" xyz="0 0 -0.205"/>
    <dynamics damping=".2" friction=".0"/>
  </joint>
  <transmission name="j2s7s300_joint_4_trans">
    <type>transmission_interface/SimpleTransmission</type>
    <joint name="j2s7s300_joint_4">
      <hardwareInterface>hardware_interface/EffortJointInterface</hardwareInterface>
    </joint>
    <actuator name="j2s7s300_joint_4_actuator">
      <hardwareInterface>hardware_interface/EffortJointInterface</hardwareInterface>
      <mechanicalReduction>160</mechanicalReduction>
    </actuator>
  </transmission>
  <link name="j2s7s300_link_5">
    <visual>
      <geometry>
        <mesh filename="package://mobile_base_urdf/model/arm/kinova/meshes/wrist_spherical_1.dae"/>
      </geometry>
      <material name="carbon_fiber">
        <color rgba="0.792156862745098 0.819607843137255 0.933333333333333 1"/>
      </material>
    </visual>
    <visual>
      <geometry>
        <mesh filename="package://mobile_base_urdf/model/arm/kinova/meshes/ring_small.STL"/>
      </geometry>
    </visual>
    <collision>
      <geometry>
        <mesh filename="package://mobile_base_urdf/model/arm/kinova/meshes/wrist_spherical_1.dae"/>
      </geometry>
    </collision>
    <inertial>
      <mass value="0.463"/>
      <origin xyz="0 0.0028848942 -0.0541932613"/>
      <inertia ixx="0.0004321316048" ixy="0" ixz="0" iyy="0.0004321316048" iyz="0" izz="9.26e-05"/>
    </inertial>
  </link>
  <joint name="j2s7s300_joint_5" type="continuous">
    <parent link="j2s7s300_link_4"/>
    <child link="j2s7s300_link_5"/>
    <axis xyz="0 0 1"/>
    <limit effort="30" lower="-6.28318530718" upper="6.28318530718" velocity="30"/>
    <origin rpy="-1.57079632679489661923 0 3.14159265358979323846" xyz="0 0.2073 -0.0114"/>
    <dynamics damping=".2" friction=".0"/>
  </joint>
  <transmission name="j2s7s300_joint_5_trans">
    <type>transmission_interface/SimpleTransmission</type>
    <joint name="j2s7s300_joint_5">
      <hardwareInterface>hardware_interface/EffortJointInterface</hardwareInterface>
    </joint>
    <actuator name="j2s7s300_joint_5_actuator">
      <hardwareInterface>hardware_interface/EffortJointInterface</hardwareInterface>
      <mechanicalReduction>160</mechanicalReduction>
    </actuator>
  </transmission>
  <link name="j2s7s300_link_6">
    <visual>
      <geometry>
        <mesh filename="package://mobile_base_urdf/model/arm/kinova/meshes/wrist_spherical_2.dae"/>
      </geometry>
      <material name="carbon_fiber">
        <color rgba="0.792156862745098 0.819607843137255 0.933333333333333 1"/>
      </material>
    </visual>
    <visual>
      <geometry>
        <mesh filename="package://mobile_base_urdf/model/arm/kinova/meshes/ring_small.STL"/>
      </geometry>
    </visual>
    <collision>
      <geometry>
        <mesh filename="package://mobile_base_urdf/model/arm/kinova/meshes/wrist_spherical_2.dae"/>
      </geometry>
    </collision>
    <inertial>
      <mass value="0.463"/>
      <origin xyz="0 0.0497208855 -0.0028562765"/>
      <inertia ixx="0.0004321316048" ixy="0" ixz="0" iyy="9.26e-05" iyz="0" izz="0.0004321316048"/>
    </inertial>
  </link>
  <joint name="j2s7s300_joint_6" type="revolute">
    <parent link="j2s7s300_link_5"/>
    <child link="j2s7s300_link_6"/>
    <axis xyz="0 0 1"/>
    <limit effort="30" lower="1.1344640138" upper="5.14872129338" velocity="30"/>
    <origin rpy="1.57079632679489661923 0 3.14159265358979323846" xyz="0 0 -0.10375"/>
    <dynamics damping=".2" friction=".0"/>
  </joint>
  <transmission name="j2s7s300_joint_6_trans">
    <type>transmission_interface/SimpleTransmission</type>
    <joint name="j2s7s300_joint_6">
      <hardwareInterface>hardware_interface/EffortJointInterface</hardwareInterface>
    </joint>
    <actuator name="j2s7s300_joint_6_actuator">
      <hardwareInterface>hardware_interface/EffortJointInterface</hardwareInterface>
      <mechanicalReduction>160</mechanicalReduction>
    </actuator>
  </transmission>
  <link name="robotiq_base_link">
    <inertial>
      <origin
        rpy="0 0 0"
        xyz="8.625E-08 -4.6583E-06 0.03145"/>
      <mass
        value="0.22652"/>
      <inertia
        ixx="0.00020005"
        ixy="-4.2442E-10"
        ixz="-2.9069E-10"
        iyy="0.00017832"
        iyz="-3.4402E-08"
        izz="0.00013478"/>
    </inertial>
    <visual>
      <origin
        rpy="0 0 0"
        xyz="0 0 0"/>
      <geometry>
        <mesh filename="package://mobile_base_urdf/model/gripper/robotiq_2_85/meshes/visual/robotiq_arg2f_85_base_link.stl"/>
      </geometry>
      <material name="">
        <color rgba="0.1 0.1 0.1 1"/>
      </material>
    </visual>
    <collision>
      <origin rpy="0 0 0" xyz="0 0 0"/>
      <geometry>
        <mesh filename="package://mobile_base_urdf/model/gripper/robotiq_2_85/meshes/collision/robotiq_arg2f_85_base_link.stl"/>
      </geometry>
    </collision>
  </link>
  <joint name="j2s7s300_joint_7" type="revolute">
    <parent link="j2s7s300_link_6"/>
    <child link="robotiq_base_link"/>
    <axis xyz="0 0 1"/>
    <limit effort="20" lower="-6.28" upper="6.28" velocity="30"/>
    <origin rpy="-1.570796 0 0" xyz="0 0.10375 0"/>
    <!-- <origin rpy="1.57079632679489661923 0 3.14159265358979323846" xyz="0 0.10375 0"/> -->
    <dynamics damping=".2" friction=".0"/>
  </joint>
  <transmission name="j2s7s300_joint_7_trans">
    <type>transmission_interface/SimpleTransmission</type>
    <joint name="j2s7s300_joint_7">
      <hardwareInterface>hardware_interface/EffortJointInterface</hardwareInterface>
    </joint>
    <actuator name="j2s7s300_joint_7_actuator">
      <hardwareInterface>hardware_interface/EffortJointInterface</hardwareInterface>
      <mechanicalReduction>160</mechanicalReduction>
    </actuator>
  </transmission>
  <!-- Robotiq gripper -->
  <link name="left_outer_knuckle">
    <inertial>
      <origin
        rpy="0 0 0"
        xyz="-0.000200000000003065 0.0199435877845359 0.0292245259211331"/>
      <mass
        value="0.00853198276973456" />
      <inertia
        ixx="2.89328108496468E-06"
        ixy="-1.57935047237397E-19"
        ixz="-1.93980378593255E-19"
        iyy="1.86719750325683E-06"
        iyz="-1.21858577871576E-06"
        izz="1.21905238907251E-06" />
    </inertial>
    <visual>
      <origin
        rpy="0 0 0"
        xyz="0 0 0"/>
      <geometry>
        <mesh filename="package://mobile_base_urdf/model/gripper/robotiq_2_85/meshes/visual/robotiq_arg2f_85_outer_knuckle.stl"/>
      </geometry>
      <material name="">
        <color rgba="0.792156862745098 0.819607843137255 0.933333333333333 1"/>
      </material>
    </visual>
    <collision>
      <origin
        rpy="0 0 0"
        xyz="0 0 0"/>
      <geometry>
        <mesh filename="package://mobile_base_urdf/model/gripper/robotiq_2_85/meshes/collision/robotiq_arg2f_85_outer_knuckle.stl"/>
      </geometry>
    </collision>
  </link>
  <link name="left_outer_finger">
    <inertial>
      <origin
        rpy="0 0 0"
        xyz="0.00030115855001899 0.0373907951953854 -0.0208027427000385"/>
      <mass
        value="0.022614240507152" />
      <inertia
        ixx="1.52518312458174E-05"
        ixy="9.76583423954399E-10"
        ixz="-5.43838577022588E-10"
        iyy="6.17694243867776E-06"
        iyz="6.78636130740228E-06"
        izz="1.16494917907219E-05" />
    </inertial>
    <visual>
      <origin
        rpy="0 0 0"
        xyz="0 0 0"/>
      <geometry>
        <mesh filename="package://mobile_base_urdf/model/gripper/robotiq_2_85/meshes/visual/robotiq_arg2f_85_outer_finger.stl"/>
      </geometry>
      <material name="">
        <color rgba="0.1 0.1 0.1 1"/>
      </material>
    </visual>
    <collision>
      <origin
        rpy="0 0 0"
        xyz="0 0 0"/>
      <geometry>
        <mesh filename="package://mobile_base_urdf/model/gripper/robotiq_2_85/meshes/collision/robotiq_arg2f_85_outer_finger.stl"/>
      </geometry>
    </collision>
  </link>
  <link name="left_inner_finger">
    <inertial>
      <origin
        rpy="0 0 0"
        xyz="0.000299999999999317 0.0160078233491243 -0.0136945669206257"/>
      <mass
        value="0.0104003125914103" />
      <inertia
        ixx="2.71909453810972E-06"
        ixy="1.35402465472579E-21"
        ixz="-7.1817349065269E-22"
        iyy="7.69100314106116E-07"
        iyz="6.74715432769696E-07"
        izz="2.30315190420171E-06" />
    </inertial>
    <visual>
      <origin
        rpy="0 0 0"
        xyz="0 0 0"/>
      <geometry>
        <mesh filename="package://mobile_base_urdf/model/gripper/robotiq_2_85/meshes/visual/robotiq_arg2f_85_inner_finger.stl"/>
      </geometry>
      <material name="">
        <color rgba="0.1 0.1 0.1 1"/>
      </material>
    </visual>
    <collision>
      <origin
        rpy="0 0 0"
        xyz="0 0 0"/>
      <geometry>
        <mesh filename="package://mobile_base_urdf/model/gripper/robotiq_2_85/meshes/collision/robotiq_arg2f_85_inner_finger.stl"/>
      </geometry>
    </collision>
  </link>
  <link name="left_inner_finger_pad">
    <visual>
      <origin
        rpy="0 0 0"
        xyz="0 0 0"/>
      <geometry>
        <box size="0.022 0.00635 0.0375"/>
      </geometry>
      <material name="">
        <color rgba="0.9 0.9 0.9 1"/>
      </material>
    </visual>
    <collision>
      <origin
        rpy="0 0 0"
        xyz="0 0 0"/>
      <geometry>
        <box size="0.022 0.00635 0.0375"/>
      </geometry>
      <material name="">
        <color rgba="0.9 0.0 0.0 1"/>
      </material>
    </collision>
  </link>
  <link name="left_inner_knuckle">
    <inertial>
      <origin
        rpy="0 0 0"
        xyz="0.000123011831763771 0.0507850843201817 0.00103968640075166"/>
      <mass
        value="0.0271177346495152" />
      <inertia
        ixx="2.61910379223783E-05"
        ixy="-2.43616858946494E-07"
        ixz="-6.37789906117123E-09"
        iyy="2.8270243746167E-06"
        iyz="-5.37200748039765E-07"
        izz="2.83695868220296E-05" />
    </inertial>
    <visual>
      <origin
        rpy="0 0 0"
        xyz="0 0 0"/>
      <geometry>
        <mesh filename="package://mobile_base_urdf/model/gripper/robotiq_2_85/meshes/visual/robotiq_arg2f_85_inner_knuckle.stl"/>
      </geometry>
      <material name="">
        <color rgba="0.1 0.1 0.1 1"/>
      </material>
    </visual>
    <collision>
      <origin
        rpy="0 0 0"
        xyz="0 0 0"/>
      <geometry>
        <mesh filename="package://mobile_base_urdf/model/gripper/robotiq_2_85/meshes/collision/robotiq_arg2f_85_inner_knuckle.stl"/>
      </geometry>
    </collision>
  </link>
  <link name="right_outer_knuckle">
    <inertial>
      <origin
        rpy="0 0 0"
        xyz="-0.000200000000003065 0.0199435877845359 0.0292245259211331"/>
      <mass
        value="0.00853198276973456" />
      <inertia
        ixx="2.89328108496468E-06"
        ixy="-1.57935047237397E-19"
        ixz="-1.93980378593255E-19"
        iyy="1.86719750325683E-06"
        iyz="-1.21858577871576E-06"
        izz="1.21905238907251E-06" />
    </inertial>
    <visual>
      <origin
        rpy="0 0 0"
        xyz="0 0 0"/>
      <geometry>
        <mesh filename="package://mobile_base_urdf/model/gripper/robotiq_2_85/meshes/visual/robotiq_arg2f_85_outer_knuckle.stl"/>
      </geometry>
      <material name="">
        <color rgba="0.792156862745098 0.819607843137255 0.933333333333333 1"/>
      </material>
    </visual>
    <collision>
      <origin
        rpy="0 0 0"
        xyz="0 0 0"/>
      <geometry>
        <mesh filename="package://mobile_base_urdf/model/gripper/robotiq_2_85/meshes/collision/robotiq_arg2f_85_outer_knuckle.stl"/>
      </geometry>
    </collision>
  </link>
  <link name="right_outer_finger">
    <inertial>
      <origin xyz="0.00030115855001899 0.0373907951953854 -0.0208027427000385" rpy="0 0 0" />
      <mass value="0.022614240507152" />
      <inertia ixx="1.52518312458174E-05" ixy="9.76583423954399E-10" ixz="-5.43838577022588E-10" iyy="6.17694243867776E-06" iyz="6.78636130740228E-06" izz="1.16494917907219E-05" />
    </inertial>
    <visual>
      <origin rpy="0 0 0" xyz="0 0 0"/>
      <geometry>
        <mesh filename="package://mobile_base_urdf/model/gripper/robotiq_2_85/meshes/visual/robotiq_arg2f_85_outer_finger.stl"/>
      </geometry>
      <material name="">
        <color rgba="0.1 0.1 0.1 1"/>
      </material>
    </visual>
    <collision>
      <origin rpy="0 0 0" xyz="0 0 0"/>
      <geometry>
        <mesh filename="package://mobile_base_urdf/model/gripper/robotiq_2_85/meshes/collision/robotiq_arg2f_85_outer_finger.stl"/>
      </geometry>
    </collision>
  </link>
  <link name="right_inner_finger">
    <inertial>
      <origin xyz="0.000299999999999317 0.0160078233491243 -0.0136945669206257" rpy="0 0 0" />
      <mass value="0.0104003125914103" />
      <inertia ixx="2.71909453810972E-06" ixy="1.35402465472579E-21" ixz="-7.1817349065269E-22" iyy="7.69100314106116E-07" iyz="6.74715432769696E-07" izz="2.30315190420171E-06" />
    </inertial>
    <visual>
      <origin rpy="0 0 0" xyz="0 0 0"/>
      <geometry>
        <mesh filename="package://mobile_base_urdf/model/gripper/robotiq_2_85/meshes/visual/robotiq_arg2f_85_inner_finger.stl"/>
      </geometry>
      <material name="">
        <color rgba="0.1 0.1 0.1 1"/>
      </material>
    </visual>
    <collision>
      <origin rpy="0 0 0" xyz="0 0 0"/>
      <geometry>
        <mesh filename="package://mobile_base_urdf/model/gripper/robotiq_2_85/meshes/collision/robotiq_arg2f_85_inner_finger.stl"/>
      </geometry>
    </collision>
  </link>
  <link name="right_inner_finger_pad">
    <visual>
      <origin rpy="0 0 0" xyz="0 0 0"/>
      <geometry>
        <box size="0.022 0.00635 0.0375"/>
      </geometry>
      <material name="">
        <color rgba="0.9 0.9 0.9 1"/>
      </material>
    </visual>
    <collision>
      <origin rpy="0 0 0" xyz="0 0 0"/>
      <geometry>
        <box size="0.022 0.00635 0.0375"/>
      </geometry>
      <material name="">
        <color rgba="0.9 0.0 0.0 1"/>
      </material>
    </collision>
  </link>
  <link name="right_inner_knuckle">
    <inertial>
      <origin xyz="0.000123011831763771 0.0507850843201817 0.00103968640075166" rpy="0 0 0" />
      <mass value="0.0271177346495152" />
      <inertia ixx="2.61910379223783E-05" ixy="-2.43616858946494E-07" ixz="-6.37789906117123E-09" iyy="2.8270243746167E-06" iyz="-5.37200748039765E-07" izz="2.83695868220296E-05" />
    </inertial>
    <visual>
      <origin rpy="0 0 0" xyz="0 0 0"/>
      <geometry>
        <mesh filename="package://mobile_base_urdf/model/gripper/robotiq_2_85/meshes/visual/robotiq_arg2f_85_inner_knuckle.stl"/>
      </geometry>
      <material name="">
        <color rgba="0.1 0.1 0.1 1"/>
      </material>
    </visual>
    <collision>
      <origin rpy="0 0 0" xyz="0 0 0"/>
      <geometry>
        <mesh filename="package://mobile_base_urdf/model/gripper/robotiq_2_85/meshes/collision/robotiq_arg2f_85_inner_knuckle.stl"/>
      </geometry>
    </collision>
  </link>
  <joint name="robotiq_finger_joint" type="revolute">
    <origin rpy="0 0 3.141592653589793" xyz="0 -0.0306011 0.054904"/>
    <parent link="robotiq_base_link"/>
    <child link="left_outer_knuckle"/>
    <axis xyz="1 0 0"/>
    <limit effort="1000" lower="-0.001" upper="0.8" velocity="2.0"/>
    <dynamics damping="0.01" friction="0.001"/>
  </joint>
  <joint name="left_outer_finger_joint" type="fixed">
    <origin rpy="0 0 0" xyz="0 0.0315 -0.0041"/>
    <parent link="left_outer_knuckle"/>
    <child link="left_outer_finger"/>
    <axis xyz="1 0 0"/>
  </joint>
  <joint name="left_inner_knuckle_joint" type="revolute">
    <!-- <origin xyz="0 ${reflect * -0.0127} 0.06142" rpy="${pi / 2 + .725} 0 ${(reflect - 1) * pi / 2}" /> -->
    <origin rpy="0 0 3.141592653589793" xyz="0 -0.0127 0.06142"/>
    <parent link="robotiq_base_link"/>
    <child link="left_inner_knuckle"/>
    <axis xyz="1 0 0"/>
    <limit effort="1000" lower="-0.001" upper="0.8757" velocity="2.0"/>
    <dynamics damping="0.01" friction="0.001"/>
    <!-- <mimic joint="robotiq_finger_joint" multiplier="1" offset="0"/> -->
  </joint>
  <joint name="left_inner_finger_joint" type="revolute">
    <origin rpy="0 0 0" xyz="0 0.0061 0.0471"/>
    <parent link="left_outer_finger"/>
    <child link="left_inner_finger"/>
    <axis xyz="1 0 0"/>
    <limit effort="1000" lower="-0.8757" upper="0.001" velocity="2.0"/>
    <dynamics damping="0.01" friction="0.001"/>
    <!-- <mimic joint="robotiq_finger_joint" multiplier="-1" offset="0"/> -->
  </joint>
  <joint name="left_inner_finger_pad_joint" type="fixed">
    <origin rpy="0 0 0" xyz="0 -0.0220203446692936 0.03242"/>
    <parent link="left_inner_finger"/>
    <child link="left_inner_finger_pad"/>
    <axis xyz="0 0 1"/>
  </joint>
  <joint name="right_outer_knuckle_joint" type="revolute">
    <origin rpy="0 0 0" xyz="0 0.0306011 0.054904"/>
    <parent link="robotiq_base_link"/>
    <child link="right_outer_knuckle"/>
    <axis xyz="1 0 0"/>
    <limit effort="1000" lower="-0.001" upper="0.81" velocity="2.0"/>
    <dynamics damping="0.01" friction="0.001"/>
    <!-- <mimic joint="robotiq_finger_joint" multiplier="1" offset="0"/> -->
  </joint>
  <joint name="right_outer_finger_joint" type="fixed">
    <origin rpy="0 0 0" xyz="0 0.0315 -0.0041"/>
    <parent link="right_outer_knuckle"/>
    <child link="right_outer_finger"/>
    <axis xyz="1 0 0"/>
  </joint>
  <joint name="right_inner_knuckle_joint" type="revolute">
    <!-- <origin xyz="0 ${reflect * -0.0127} 0.06142" rpy="${pi / 2 + .725} 0 ${(reflect - 1) * pi / 2}" /> -->
    <origin rpy="0 0 0.0" xyz="0 0.0127 0.06142"/>
    <parent link="robotiq_base_link"/>
    <child link="right_inner_knuckle"/>
    <axis xyz="1 0 0"/>
    <limit effort="1000" lower="-0.001" upper="0.8757" velocity="2.0"/>
    <dynamics damping="0.01" friction="0.001"/>
    <!-- <mimic joint="robotiq_finger_joint" multiplier="1" offset="0"/> -->
  </joint>
  <joint name="right_inner_finger_joint" type="revolute">
    <origin rpy="0 0 0" xyz="0 0.0061 0.0471"/>
    <parent link="right_outer_finger"/>
    <child link="right_inner_finger"/>
    <axis xyz="1 0 0"/>
    <limit effort="1000" lower="-0.8757" upper="0.001" velocity="2.0"/>
    <dynamics damping="0.01" friction="0.001"/>
    <!-- <mimic joint="robotiq_finger_joint" multiplier="-1" offset="0"/> -->
  </joint>
  <joint name="right_inner_finger_pad_joint" type="fixed">
    <origin rpy="0 0 0" xyz="0 -0.0220203446692936 0.03242"/>
    <parent link="right_inner_finger"/>
    <child link="right_inner_finger_pad"/>
    <axis xyz="0 0 1"/>
  </joint>
  <transmission name="finger_joint_trans">
    <type>transmission_interface/SimpleTransmission</type>
    <joint name="robotiq_finger_joint">
      <hardwareInterface>PositionJointInterface</hardwareInterface>
    </joint>
    <actuator name="finger_joint_motor">
      <mechanicalReduction>1</mechanicalReduction>
    </actuator>
  </transmission>
  <!-- Mobile end-effector -->
  <link name="mobile_end_effector">
    <inertial>
      <mass value="0.00001"/>
      <origin rpy="0 0 0" xyz="0 0 0"/>
      <inertia ixx="0" ixy="0" ixz="0" iyy="0" iyz="0" izz="0"/>
    </inertial>
    <visual>
      <origin rpy="-1.57079632679489661923 0 0" xyz="0 0 0"/>
      <geometry>
        <mesh filename="package://mobile_base_urdf/model/base/v3/meshes/Coordinate.STL"/>
      </geometry>
    </visual>
  </link>
  <joint name="joint_mobile_end_effector_end_effector" type="revolute">
    <parent link="robotiq_base_link"/>
    <child link="mobile_end_effector"/>
    <axis xyz="1 0 0"/>
    <limit effort="1e-8" lower="0" upper="1e-8" velocity="1e-8"/>
    <origin rpy="0 -1.57079632679489661923 3.141592653589793" xyz="0 0 0.12"/>
  </joint> 
</robot>
